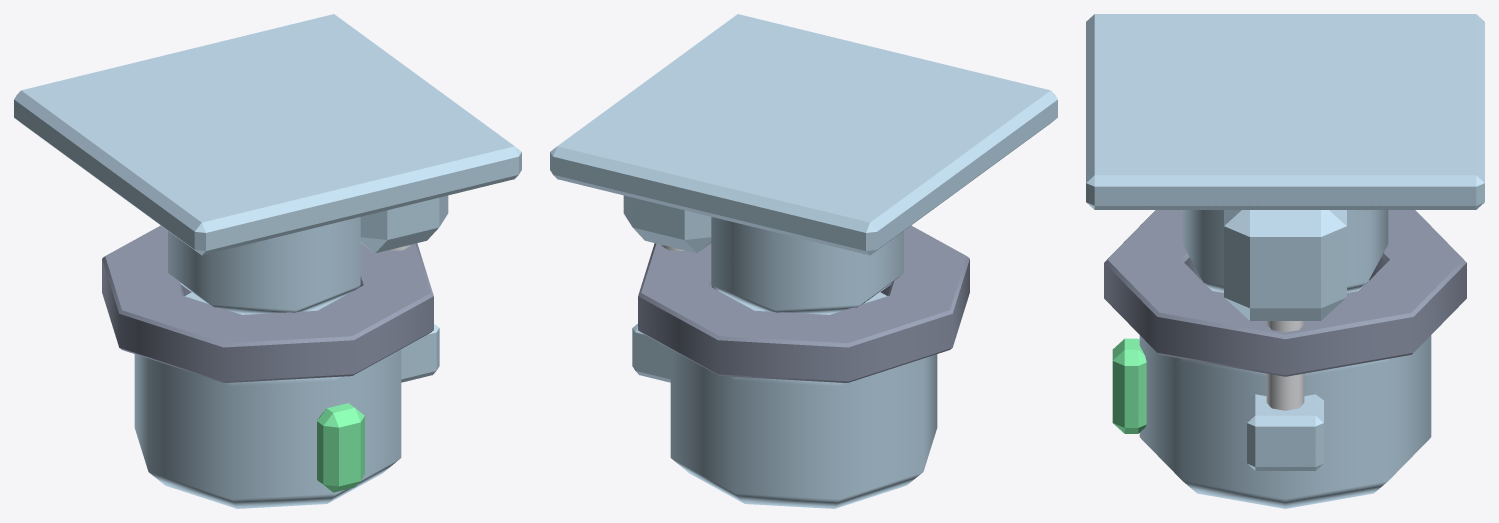
Rendered from R4X_IndependentSteering_LOD1.glb.
3 views of the same model, side by side, from view 1: azimuth 30°, elevation 25°; view 2: azimuth 150°, elevation 25°; view 3: azimuth 270°, elevation 25° (orthographic). The views are drawn at different scales.
Visible parts, largest first — view 1: R4X_IndependentSteering_LOD1; view 2: R4X_IndependentSteering_LOD1; view 3: R4X_IndependentSteering_LOD1.
Part boxes in pixels (x1,y1,x2,y2): R4X_IndependentSteering_LOD1: [14, 14, 521, 508]; R4X_IndependentSteering_LOD1: [550, 14, 1057, 508]; R4X_IndependentSteering_LOD1: [1086, 14, 1484, 508].
Size of the model in its own units: 0.52 by 0.52 by 0.52.
